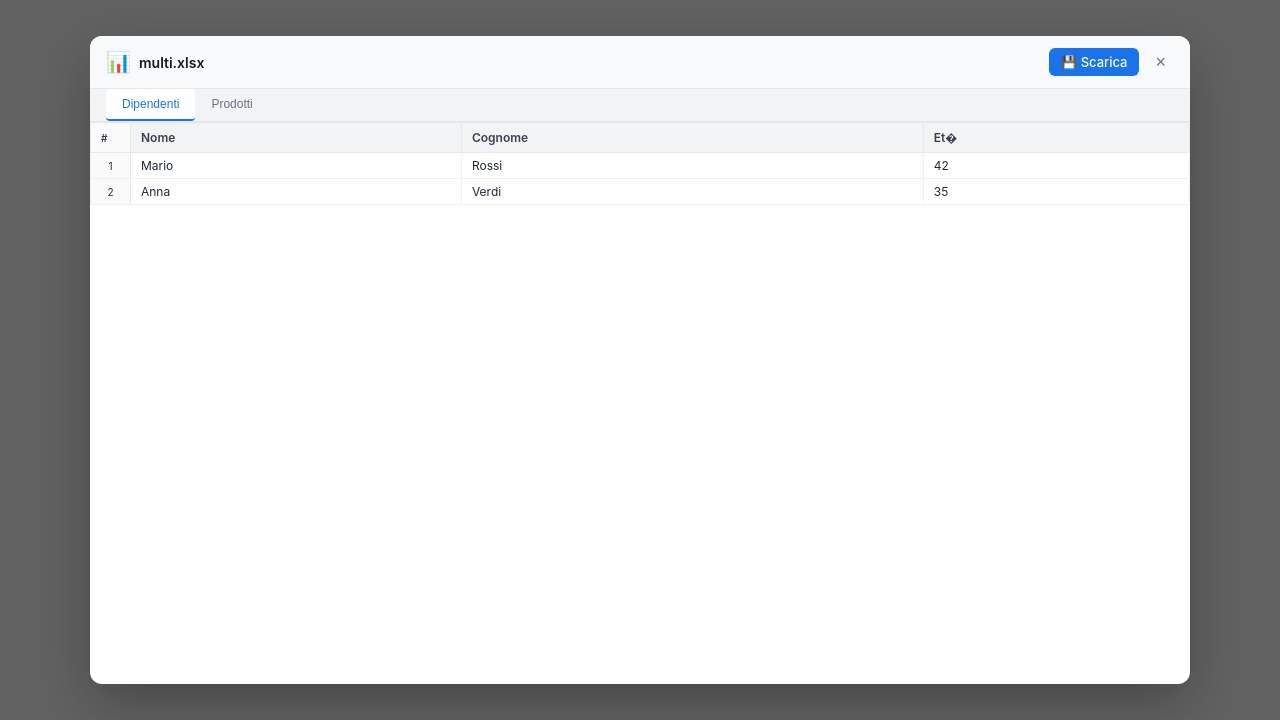
Test: SpreadsheetViewer › switch tra fogli al click sulla tab
Check: the button "Dipendenti" is shown, box [106,89,195,121]
Click the button "Prodotti" at (232, 105), box [195,89,269,121]
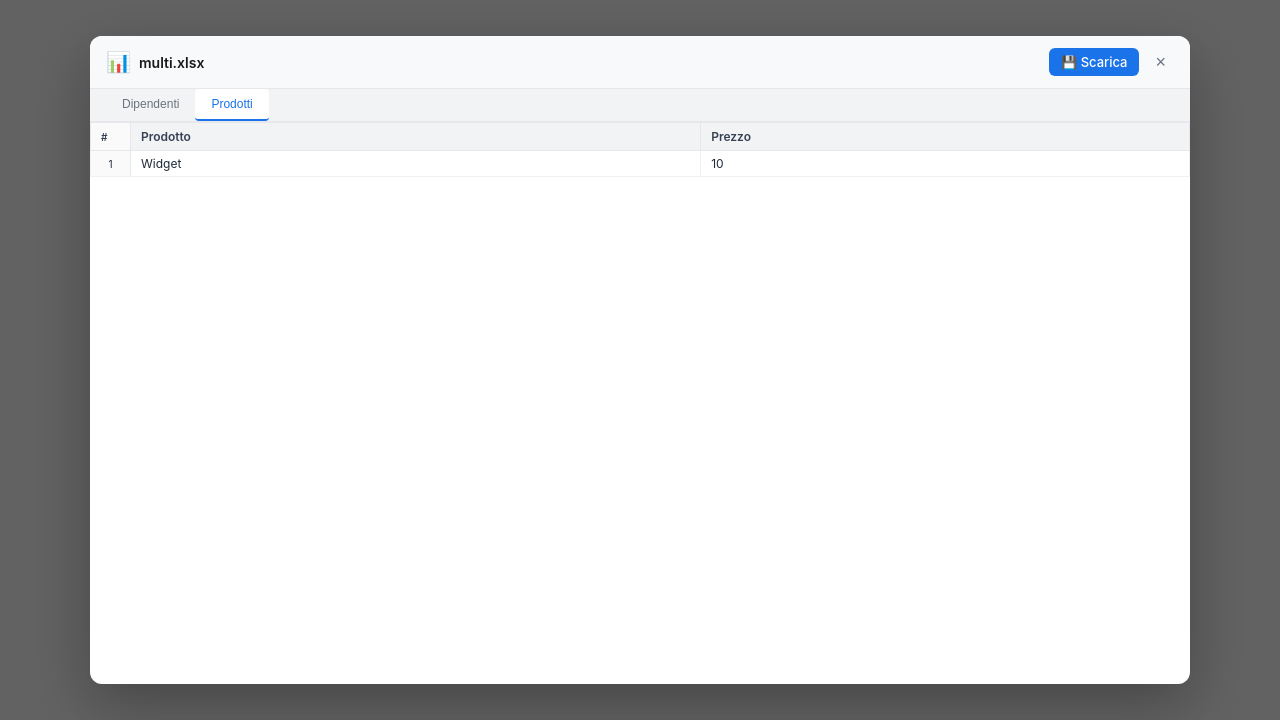
Check: the column heading "Prodotto" is shown, box [130,122,701,150]
Check: the column heading "Prezzo" is shown, box [701,122,1190,150]
